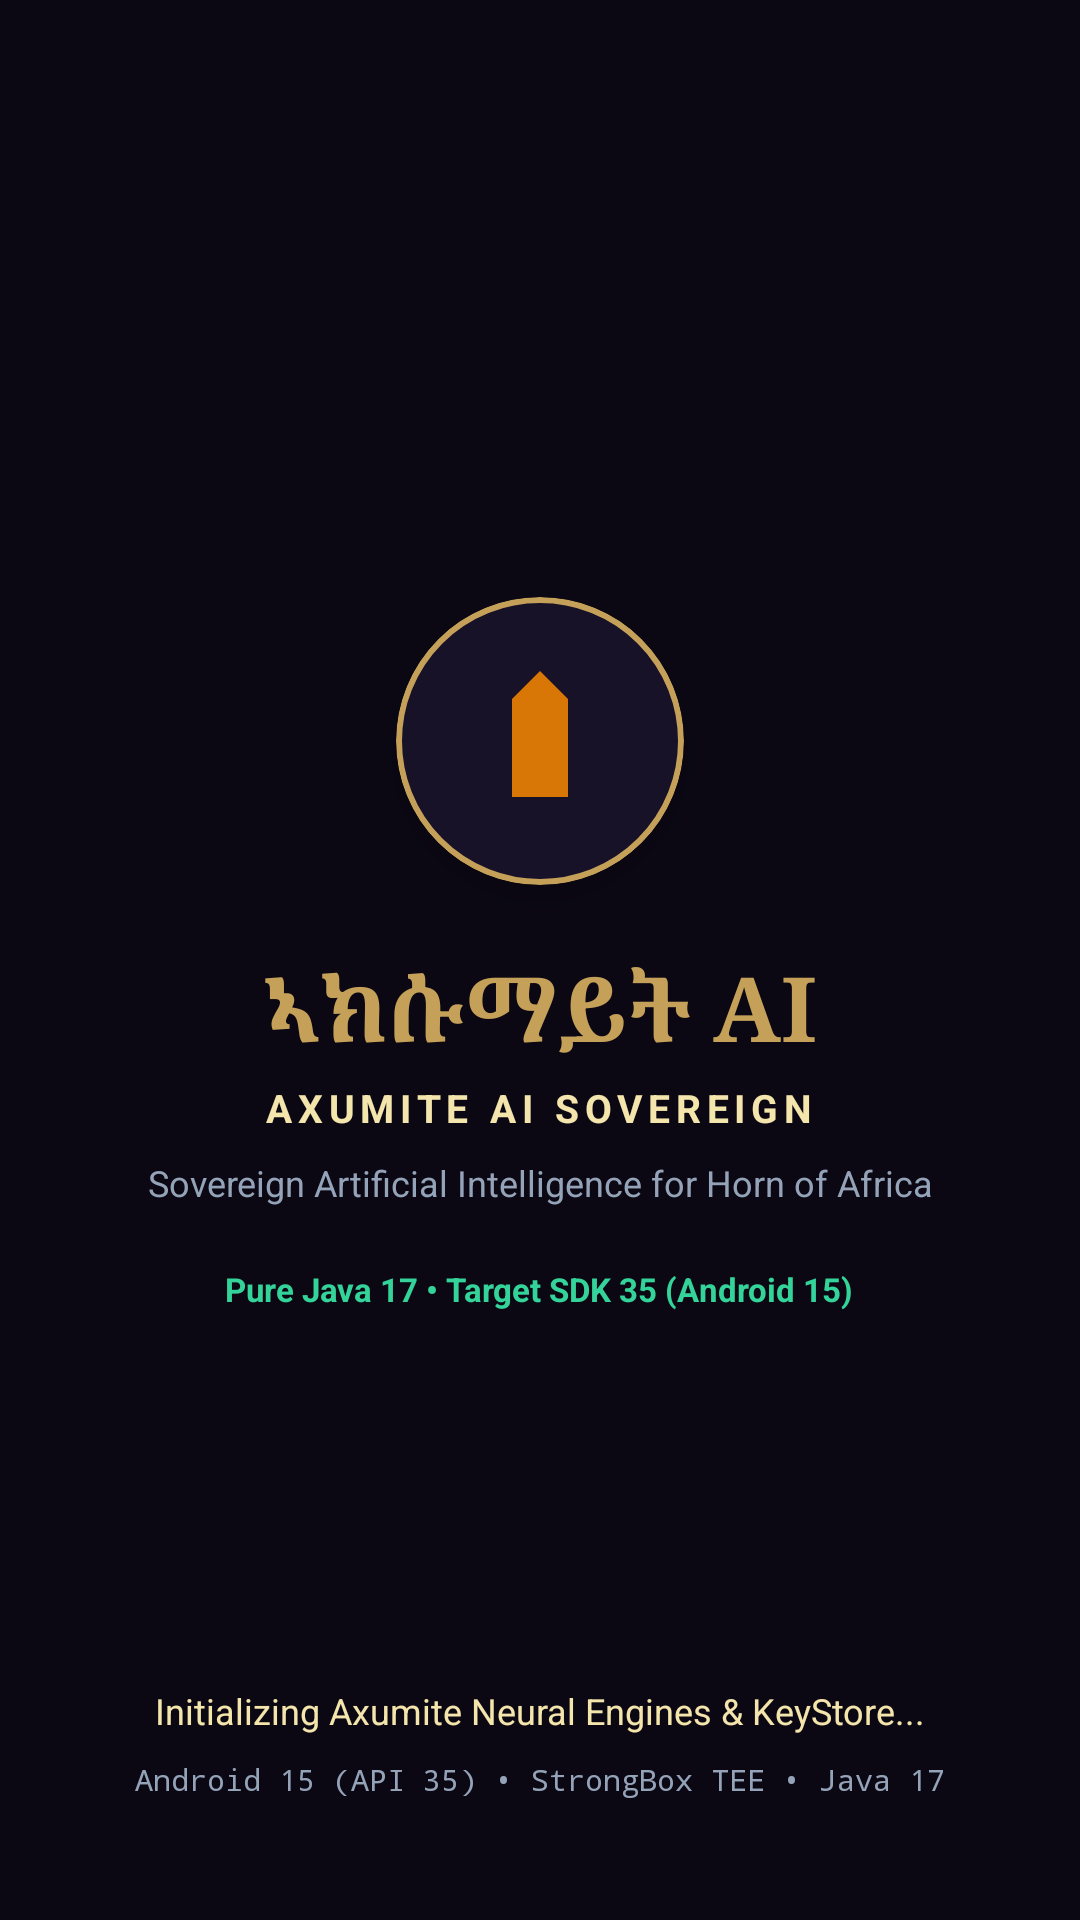

Screen size 1080 x 1920. Icon name, then its box in pixels as (x1, y1, x2, y2):
axum obelisk gold: (512, 671, 568, 797)
